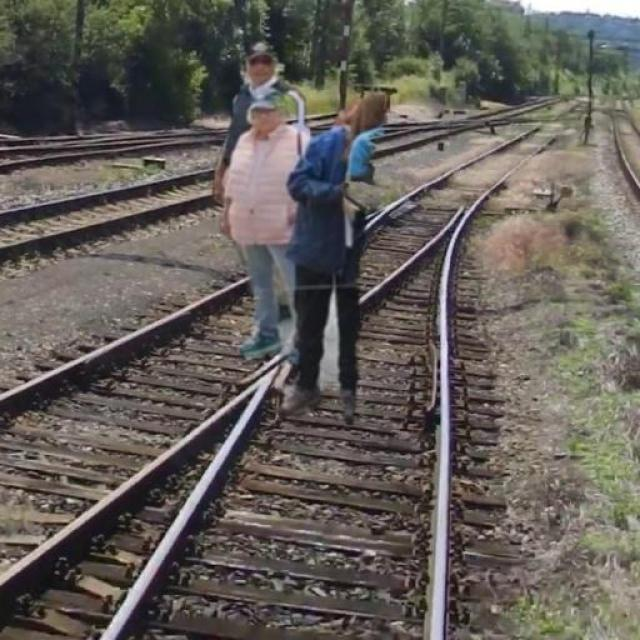people: (291, 79, 389, 416), (230, 88, 322, 369), (217, 37, 309, 221)
